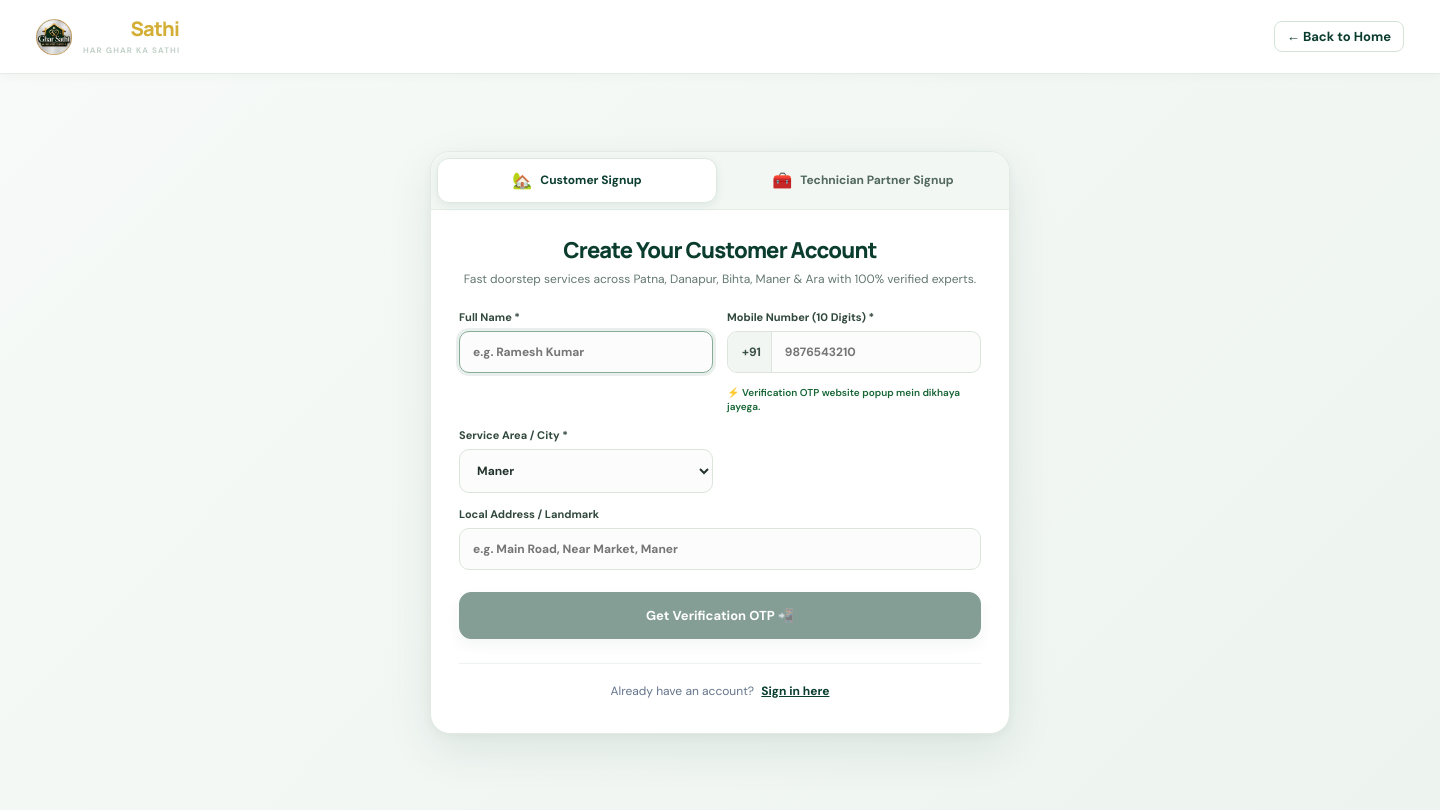
Scenario: Signup Page (Direct Mobile OTP Registration) › shows ₹0.00 wallet balance note when Technician Partner is selected
This screenshot has width=1440, height=810.
Click the tab "🧰 Technician Partner Signup" at [863, 180], box [723,158,1003,203]
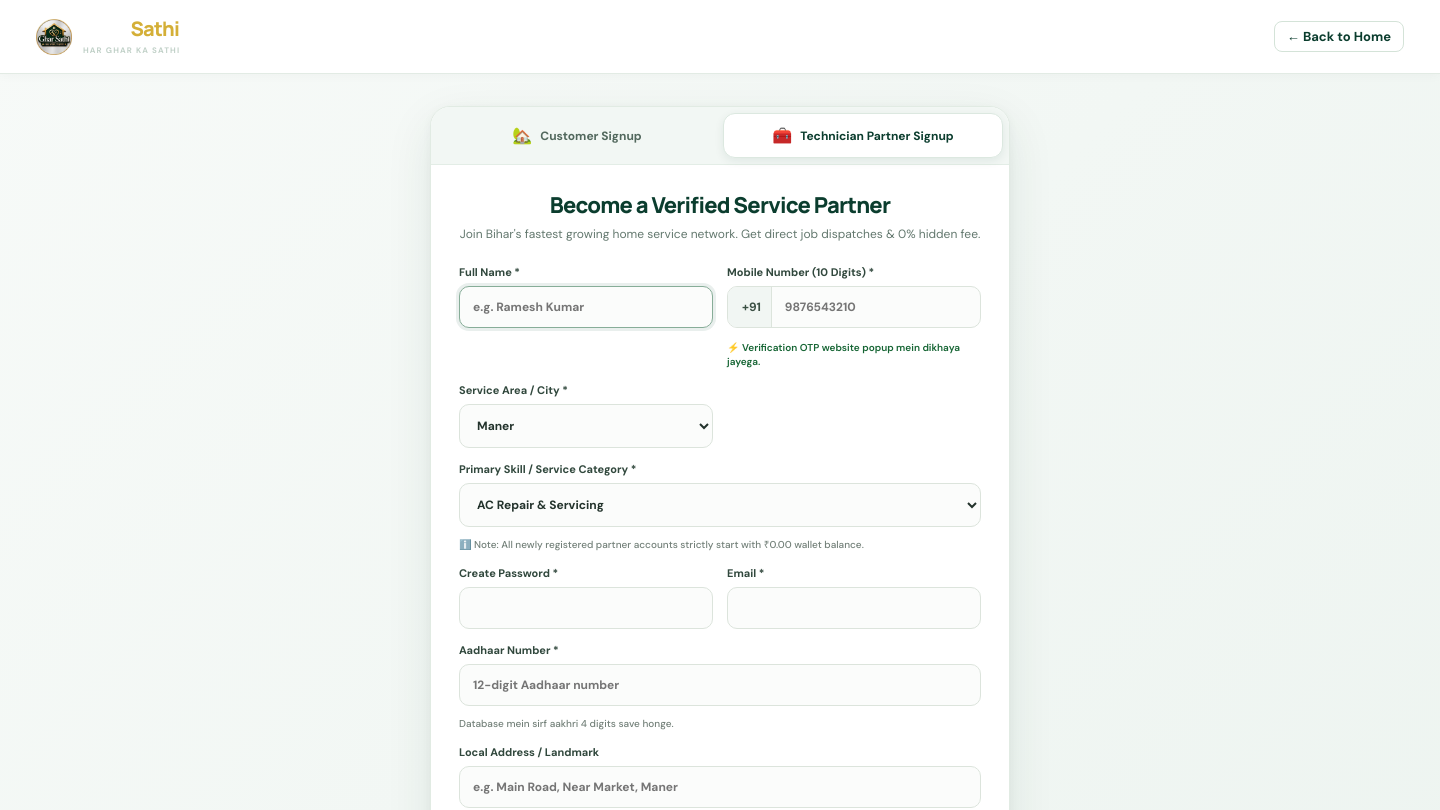
Result: the heading "Become a Verified Service Partner" is shown at [550,190,890,220]
Result: the text "All newly registered partner accounts strictly start with ₹0.00 wallet balance" is shown at [459,538,864,551]
Result: the dropdown labelled "Primary Skill / Service Category *" is shown at [459,483,981,527]
